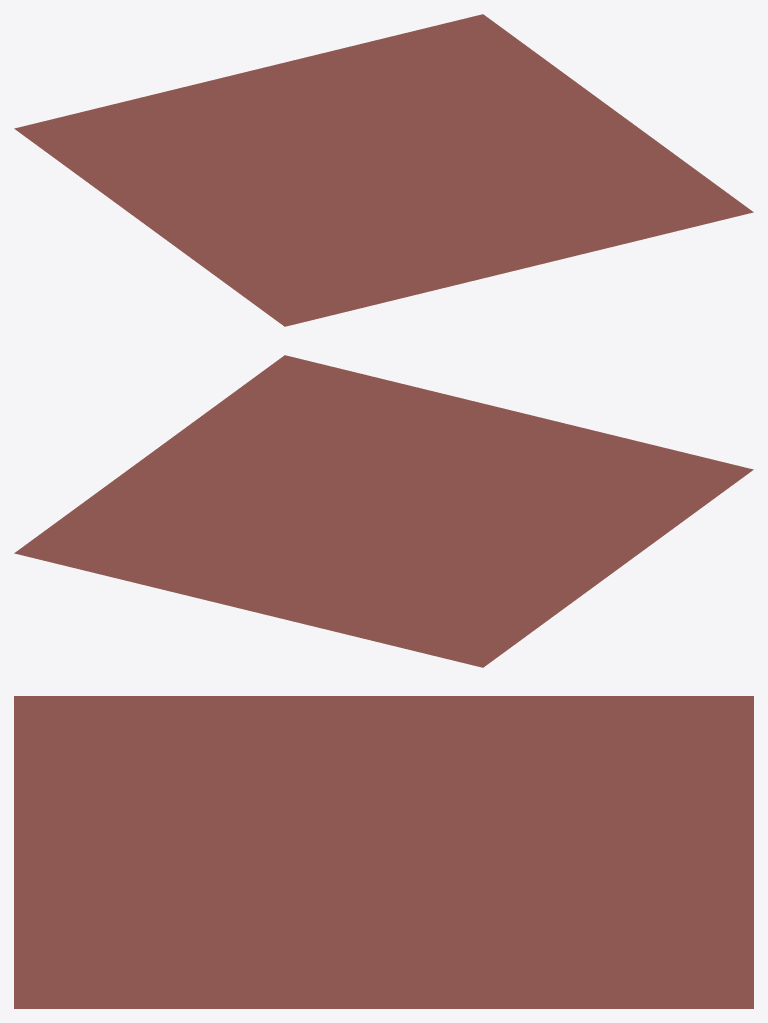
Rendered from SM_Tile_Block.fbx.
The picture shows the model from 3 angles, top to bottom: view 1: azimuth 30°, elevation 25°; view 2: azimuth 150°, elevation 25°; view 3: azimuth 270°, elevation 25°; orthographic projection. The views are drawn at different scales.
Parts seen in each view (by area): view 1: SM_Tile_Block; view 2: SM_Tile_Block; view 3: SM_Tile_Block.
Boxes of the visible parts, x1,y1,x2,y2 form: SM_Tile_Block: (14,14,753,326); SM_Tile_Block: (14,355,753,667); SM_Tile_Block: (14,696,753,1008).
Size of the model in its own units: 500 by 0 by 500.
